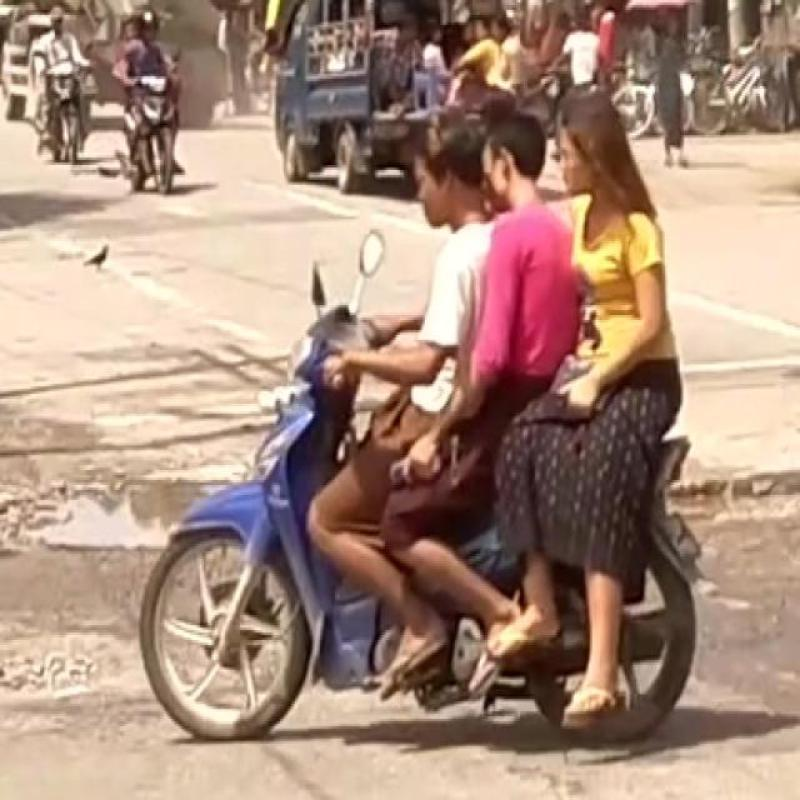nohelmet: (544, 90, 692, 222), (400, 99, 501, 249)
